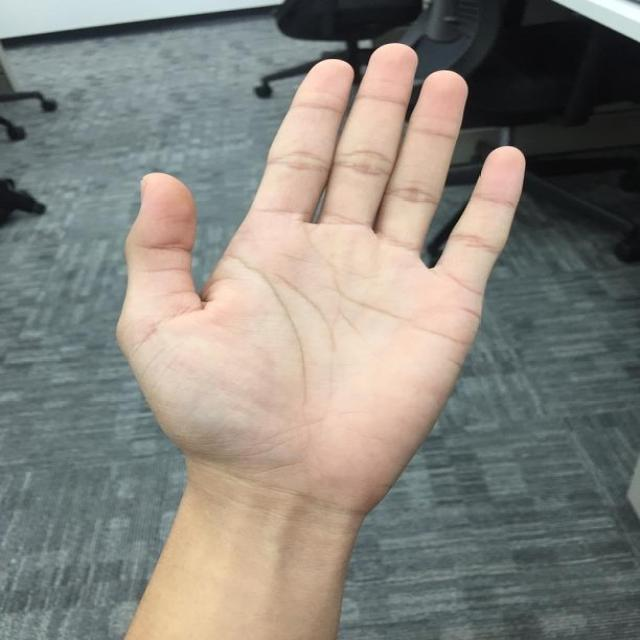hand: (109, 33, 534, 640)
